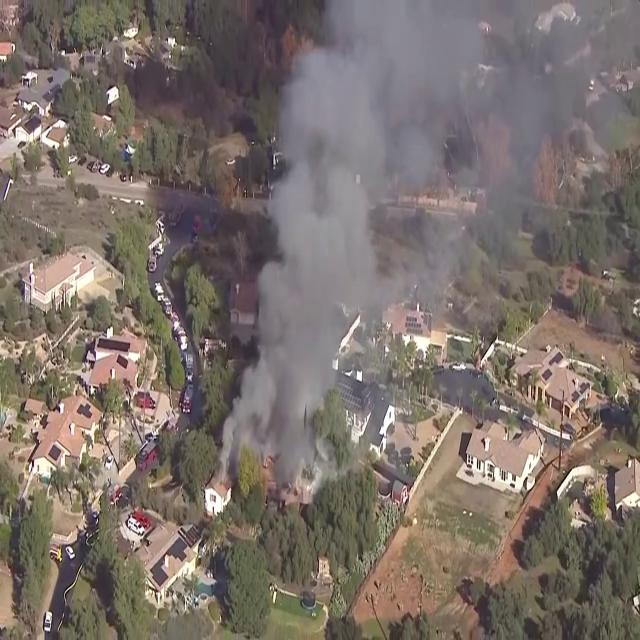Smoke: (228, 0, 638, 340)
